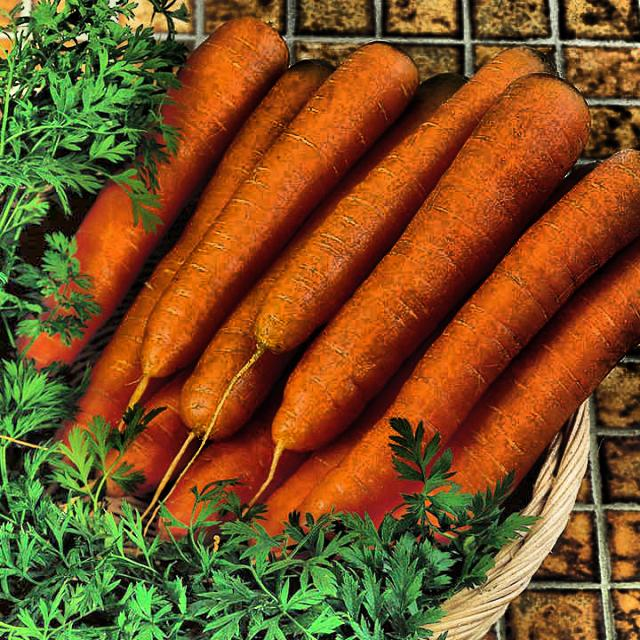carrot: (94, 37, 624, 527)
